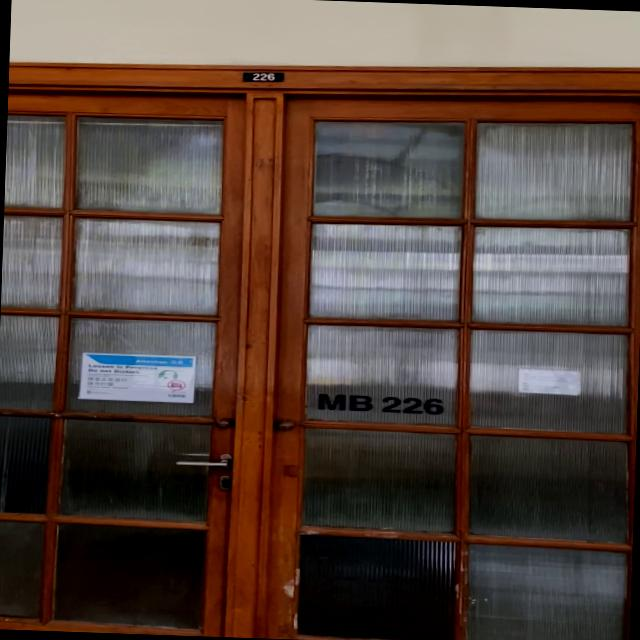room226: (238, 70, 289, 83)
room226Window: (311, 387, 450, 419)
